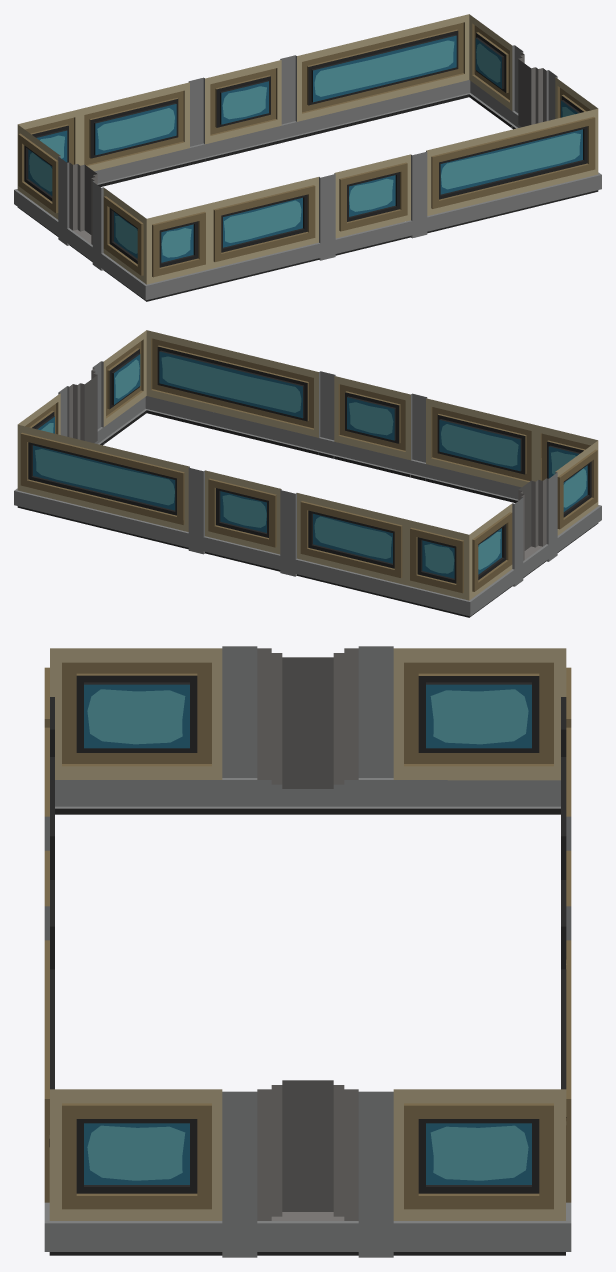
File: Building_D_02_01.FBX
3 views of the same model, one above another, from view 1: azimuth 30°, elevation 25°; view 2: azimuth 150°, elevation 25°; view 3: azimuth 270°, elevation 25° (orthographic). The views are drawn at different scales.
Parts seen in each view (by area): view 1: Building_D_02_01; view 2: Building_D_02_01; view 3: Building_D_02_01.
Part boxes in pixels (x1,y1,x2,y2): Building_D_02_01: (14, 14, 601, 301); Building_D_02_01: (14, 330, 601, 617); Building_D_02_01: (44, 646, 571, 1257).
Bounding box in the file's own units: 10 × 1.74 × 5.
